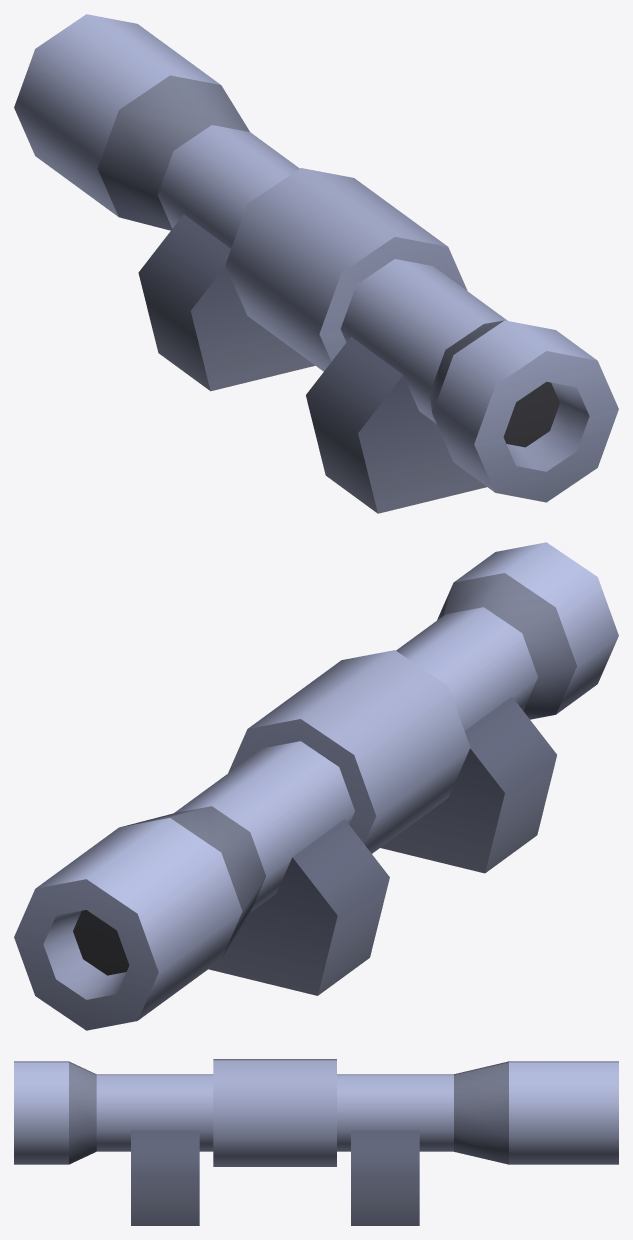
Rendered from kenney-blaster-scope-large-b.glb.
3 renders of one model, top to bottom at view 1: azimuth 30°, elevation 25°; view 2: azimuth 150°, elevation 25°; view 3: azimuth 270°, elevation 25°, orthographic. The views are drawn at different scales.
Parts seen in each view (by area): view 1: scope-large-b; view 2: scope-large-b; view 3: scope-large-b.
Part boxes in pixels (x1=…): scope-large-b: x1=14, y1=14, x2=618, y2=513; scope-large-b: x1=14, y1=542, x2=618, y2=1030; scope-large-b: x1=14, y1=1059, x2=618, y2=1225.
Size of the model in its own units: 0.11 by 0.1117 by 0.44.
Materials: 1 (1 with a texture image).
